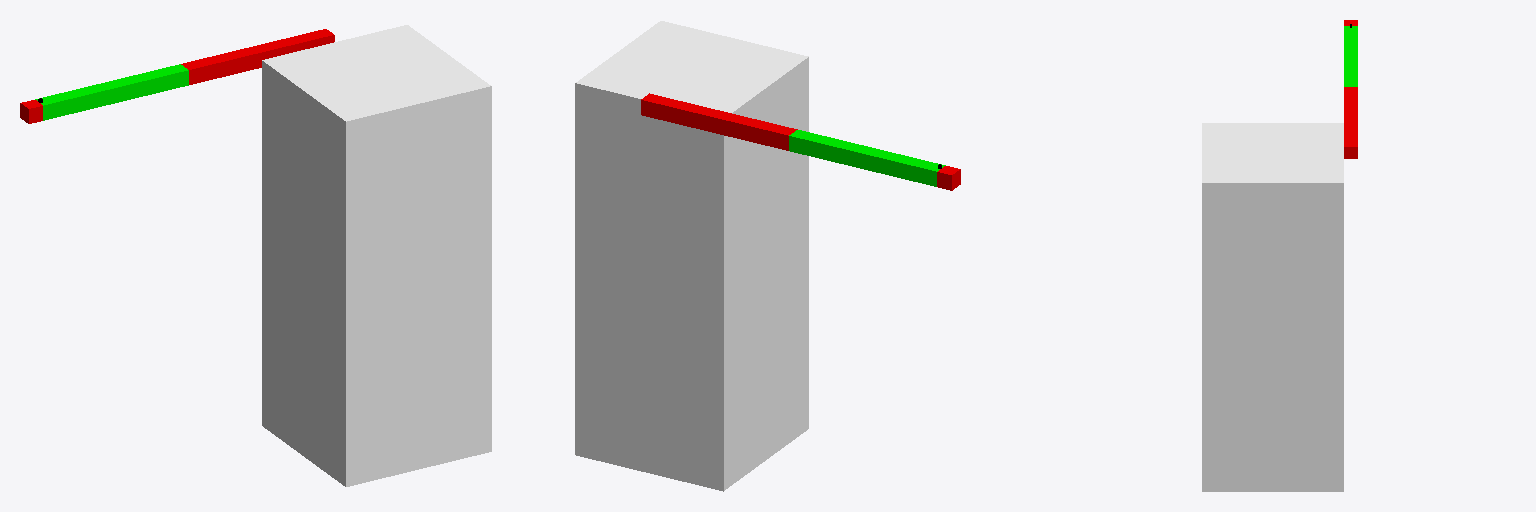
URDF robot description (simple_two_axis_robot):
<robot name="simple_two_axis_robot">
  <!-- ===================== base_box - link1 ==============================================-->
  <!-- base_box -->
  <link name="base_box">
    <!--見た目の定義-->
    <visual>
      <!--linkの原点からのオフセット-->
      <origin xyz="0 0 0.6" rpy="0 0 0"/>
      <geometry>
        <!--base_boxのサイズ（見た目）を指定-->
        <box size="0.5 0.5 1.2"/>
      </geometry>
      <!--色の指定-->
      <material name="white">
        <color rgba="1 1 1 1"/>
      </material>
    </visual>

    <!--衝突の定義（特段の理由がなければ、基本的にvisualタグと同じ設定でよい-->
    <collision>
      <!--linkの原点からのオフセット-->
      <origin xyz="0 0 0.6" rpy="0 0 0"/>
      <geometry>
        <!--base_boxのサイズ（衝突領域）を指定-->
        <box size="0.5 0.5 1.2"/>
      </geometry>
      <!--衝突に関する設定なので、materialタグはない-->
    </collision>

    <!--イナーシャ（慣性）に関する設定-->
    <inertial>
        <!--linkの原点からのオフセット-->
        <origin xyz="0 0 0" rpy="0 0 0" />
        <!--linkの重量-->
        <mass value="1" />
        <!--イナーシャ-->
        <inertia ixx="0.000034533333" 
            ixy="0"  ixz="0"
            iyx="0"  iyy="0.000034533333" 
            iyz="0"
            izx="0"  izy="0"  izz="0.0000648" />
    </inertial>
  </link>


  <!-- link1 -->
  <link name="link1">
    <!--見た目の定義-->
    <visual>
      <origin xyz="0 0 0.25" rpy="0 0 0"/>
      <geometry>
        <box size="0.05 0.05 0.5"/>
      </geometry>
      <material name="red">
        <color rgba="1 0 0 1"/>
      </material>
    </visual>
      
    <!--衝突の定義-->
    <collision>
      <origin xyz="0 0 0.25" rpy="0 0 0"/>
      <geometry>
        <box size="0.05 0.05 0.5"/>
      </geometry>
    </collision>

    <!--イナーシャの定義-->
    <inertial>
        <origin xyz="0 0 0" rpy="0 0 0" />
        <mass value="0.1" />
        <inertia ixx="0.000034533333" 
            ixy="0"  ixz="0"
            iyx="0"  iyy="0.000034533333" 
            iyz="0"
            izx="0"  izy="0"  izz="0.0000648" />
    </inertial>
  </link>

  <!-- joint1 （base_boxリンク と link1リンクをつなぐジョイント）-->
  <joint name="joint1" type="continuous"> <!--回転関節-->
    <!--親リンク-->
    <parent link="base_box"/>
    <!--子リンク-->
    <child link="link1"/>
    <!--親リンク原点⇔子リンク原点間の距離-->
    <origin xyz="0 0.275 1.2" rpy="0 -1.57 0"/><!--ワールド座標系におけるx軸方向が0度になるように-1.57(rad)のオフセットを設定-->
    <!--jointの軸方向-->
    <axis xyz="0 1 0"/>
  </joint>
  <!-- ================================================================================== -->

  <!-- ===================== link1 - link2 ==============================================-->
  <!-- link2 -->
  <link name="link2">
    <!--見た目の定義-->
    <visual>
      <origin xyz="0 0.0 0.25" rpy="0 0 0"/>
      <geometry>
        <box size="0.05 0.05 0.5"/>
      </geometry>
      <material name="green">
        <color rgba="0 1 0 1"/>
      </material>
    </visual>

    <!--衝突の定義-->
    <collision>
      <origin xyz="0 0.0 0.25" rpy="0 0 0"/>
      <geometry>
        <box size="0.05 0.05 0.5"/>
      </geometry>
    </collision>

    <!--イナーシャの定義-->
    <inertial>
        <origin xyz="0 0 0" rpy="0 0 0" />
        <mass value="0.1" />
        <inertia ixx="0.000034533333" 
            ixy="0"  ixz="0"
            iyx="0"  iyy="0.000034533333" 
            iyz="0"
            izx="0"  izy="0"  izz="0.0000648" />
    </inertial>
  </link>

  <!-- joint2 （link1リンク と link2リンク をつなぐジョイント） -->
  <joint name="joint2" type="continuous">
    <parent link="link1"/>
    <child link="link2"/>
    <origin xyz="0 0 0.5" rpy="0 0 0"/>
    <axis xyz="0 1 0"/>
  </joint>
  <!-- ================================================================== -->

  <link name="camera_link">
    <!--見た目の定義-->
    <visual>
      <origin xyz="0.0 0.0 0.0" rpy="0 0 0"/>
      <geometry>
        <box size="0.01 0.01 0.01"/>
      </geometry>
      <material name="black">
        <color rgba="0 0 0 1"/>
      </material>
    </visual>

    <!--衝突の定義-->
    <collision>
      <origin xyz="0.0 0.0 0.0" rpy="0 0 0"/>
      <geometry>
        <box size="0.01 0.01 0.01"/>
      </geometry>
    </collision>

    <!--イナーシャの定義-->
    <inertial>
        <origin xyz="0 0 0" rpy="0 0 0" />
        <mass value="0.0001" />
        <inertia ixx="0.000034533333" 
            ixy="0"  ixz="0"
            iyx="0"  iyy="0.000034533333" 
            iyz="0"
            izx="0"  izy="0"  izz="0.0000648" />
    </inertial>
  </link>

  <joint name="camera_joint" type="fixed">
    <parent link="link2"/>
    <child link="camera_link"/>
    <origin xyz="0.03 0.0 0.495" rpy="0 0 0"/>
    <axis xyz="0 0 1"/>
  </joint>

  <!--pybulletでカメラの目標地点として設定する用の仮想的なlink-->
  <link name="target_position_vertual_link"/>

  <joint name="camera_target_joint" type="fixed">
    <parent link="camera_link"/>
    <child link="target_position_vertual_link"/>
    <origin xyz="0.0 0.0 0.01" rpy="0 0 0"/>
    <axis xyz="0 0 1"/>
  </joint>

  <!--force sensor link###############################################################-->
  <!-- force sensor link -->
  <link name="force_sensor_link">
    <!--見た目の定義-->
    <visual>
      <origin xyz="0 0.0 0.025" rpy="0 0 0"/>
      <geometry>
        <box size="0.05 0.05 0.05"/>
      </geometry>
      <material name="red">
        <color rgba="1 0 0 1"/>
      </material>
    </visual>

    <!--衝突の定義-->
    <collision>
      <origin xyz="0 0.0 0.025" rpy="0 0 0"/>
      <geometry>
        <box size="0.05 0.05 0.05"/>
      </geometry>
    </collision>

    <!--イナーシャの定義-->
    <inertial>
        <origin xyz="0 0 0" rpy="0 0 0" />
        <mass value="0.0001" />
        <inertia ixx="0.000034533333" 
            ixy="0"  ixz="0"
            iyx="0"  iyy="0.000034533333" 
            iyz="0"
            izx="0"  izy="0"  izz="0.0000648" />
    </inertial>
  </link>

  <joint name="force_sensor_joint" type="fixed">
    <parent link="link2"/>
    <child link="force_sensor_link"/>
    <origin xyz="0.0 0.0 0.5" rpy="0 0 0"/>
    <axis xyz="0 0 1"/>
  </joint>

</robot>

--- What the picture shows (computed from the rendered views, not written in the file) ---
3 views of the same robot in one strip: view 1: azimuth 30°, elevation 25°; view 2: azimuth 150°, elevation 25°; view 3: azimuth 270°, elevation 25° (orthographic).
Robot: simple_two_axis_robot — 6 links, 5 joints (2 continuous, 3 fixed); root link base_box; default pose: all joints at 0.
Links seen in each view (by area): view 1: base_box, link2, link1; view 2: base_box, link1, link2; view 3: base_box, link1, link2.
Link boxes in pixels (left/top/right/bottom): base_box: left=262, top=25, right=491, bottom=486; link2: left=35, top=64, right=188, bottom=120; link1: left=181, top=29, right=334, bottom=84; base_box: left=575, top=21, right=808, bottom=491; link1: left=641, top=93, right=797, bottom=150; link2: left=789, top=130, right=945, bottom=186; base_box: left=1202, top=123, right=1343, bottom=491; link1: left=1344, top=87, right=1357, bottom=158; link2: left=1344, top=26, right=1357, bottom=86.
Size in the robot's own frame: 1.3 by 0.55 by 1.24 metres.
Geometry: primitives only (box / cylinder / sphere), no mesh files.
